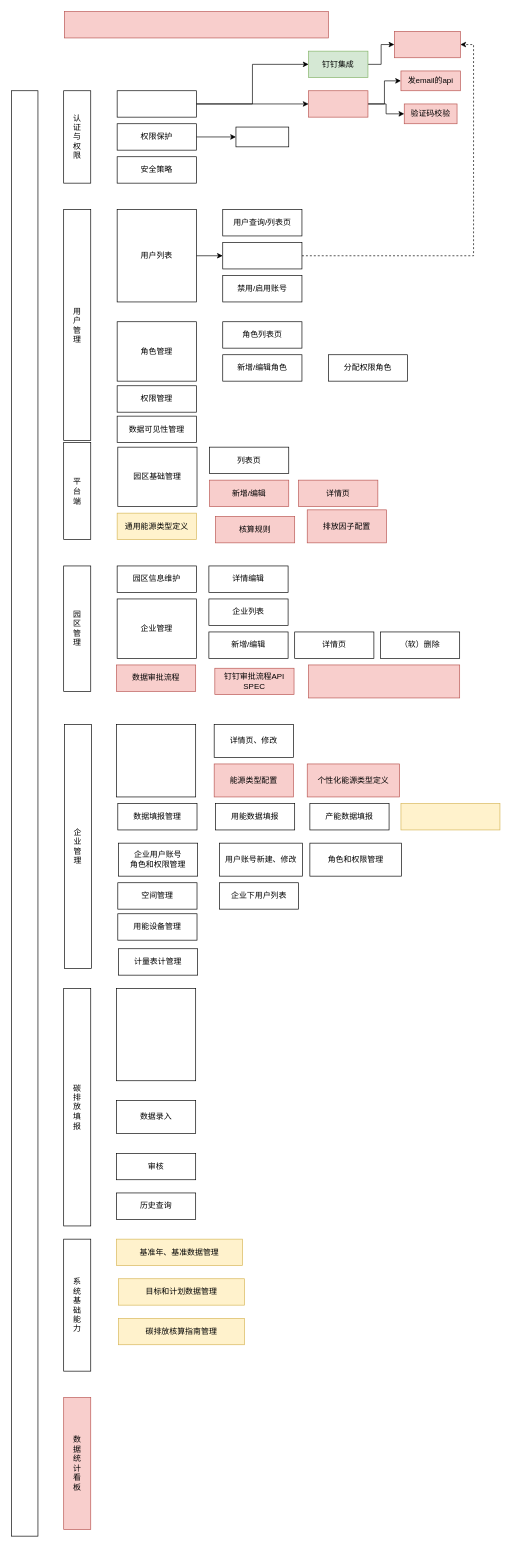
This 512x1548 diagram has some shape labels left out. The centre of each missing label's shape, as x and y in pixels:
"企业信息维护" belongs at [156,760].
"图床实现技术调用" belongs at [196,24].
"填报周期" belongs at [156,1034].
"收 资 管 理 平 台" belongs at [24,813].
"新增/编辑用户信息" belongs at [262,255].
"权限执行框架" belongs at [262,136].
"补充 email 地址" belongs at [427,44].
"表单填报数据检查审核" belongs at [384,681].
"认证管理" belongs at [156,103].
"账单、发票附件上传" belongs at [450,816].
"验证码登录" belongs at [338,103].
